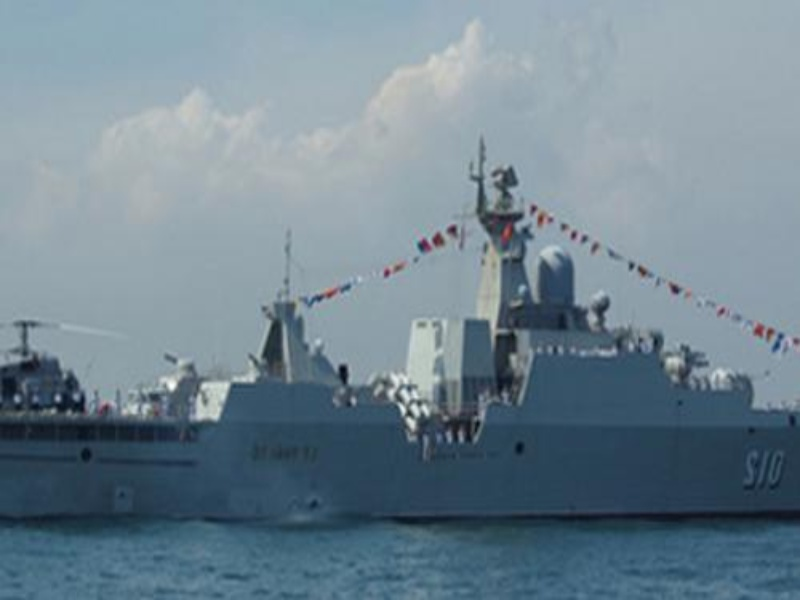cruise: (41, 199, 795, 517)
